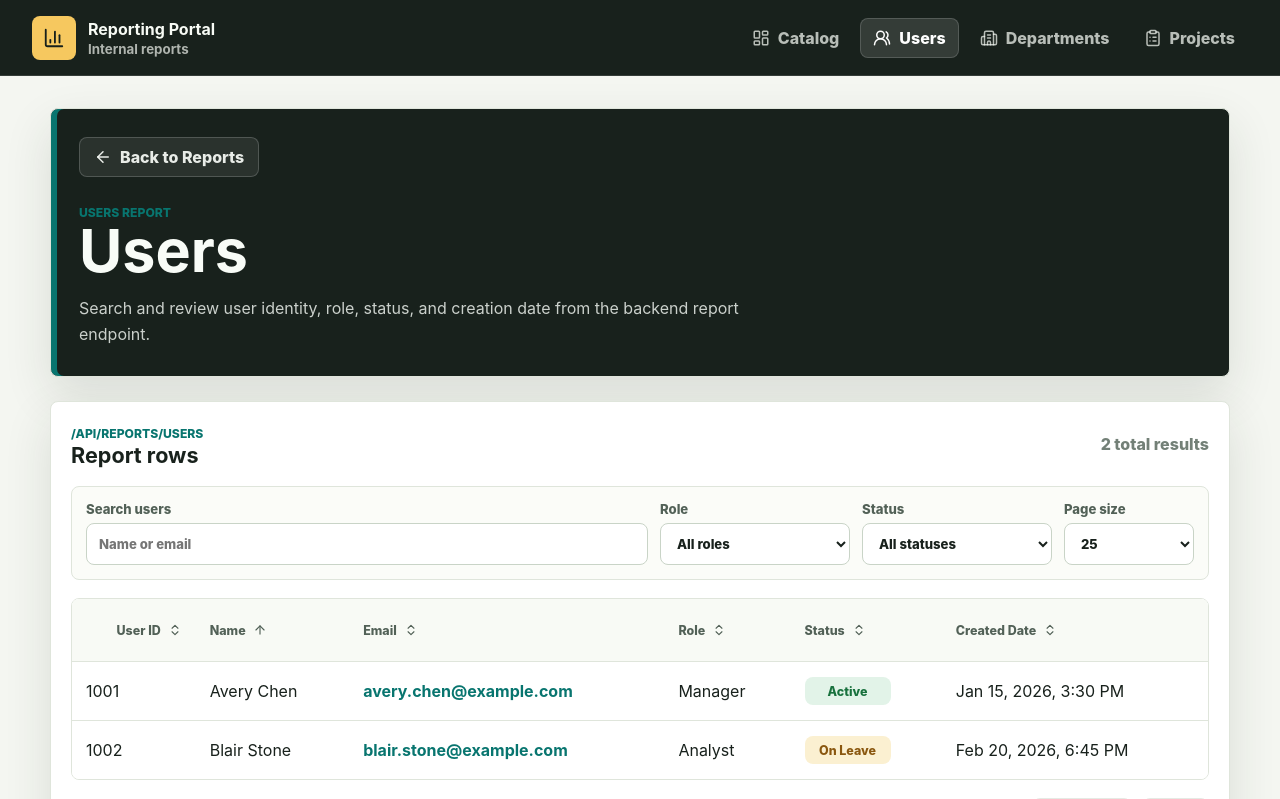
Test: AppShell › navigates back from users to the report catalog
Expected: the text "Avery Chen" is shown, [196, 662, 349, 721]
Click the link "Back to Reports".
click(169, 157)  # box [79, 137, 259, 177]
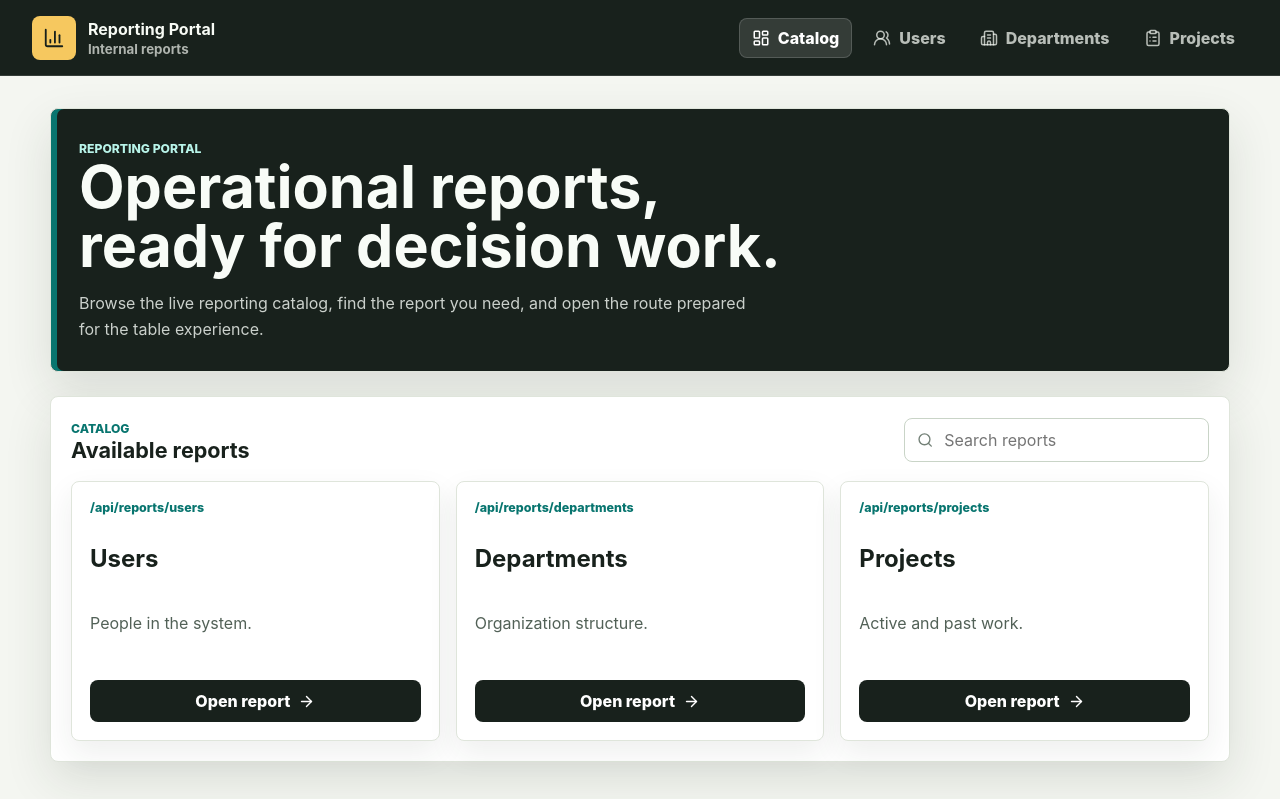
Result: the heading "Available reports" is shown at [71, 437, 250, 463]
